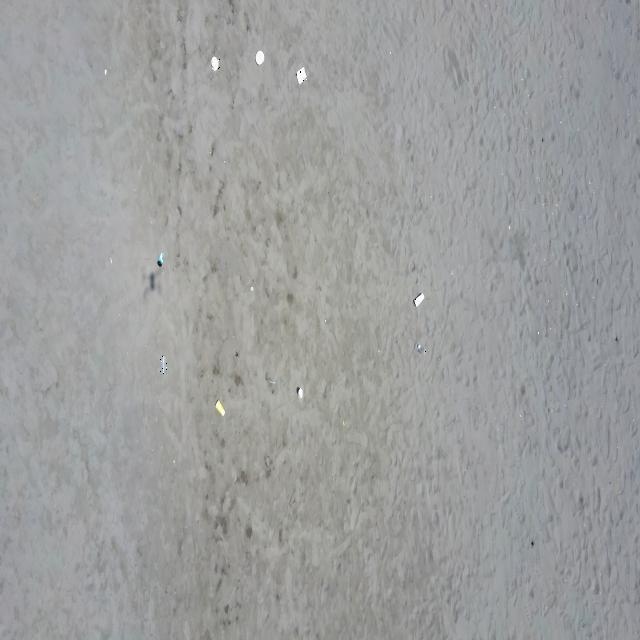take-away-containers: (296, 66, 307, 84), (255, 49, 265, 67), (210, 56, 220, 72)
takeaway-cup: (414, 292, 425, 308), (215, 400, 225, 417), (158, 355, 166, 374), (414, 343, 426, 355), (158, 252, 166, 266), (298, 388, 304, 399)
